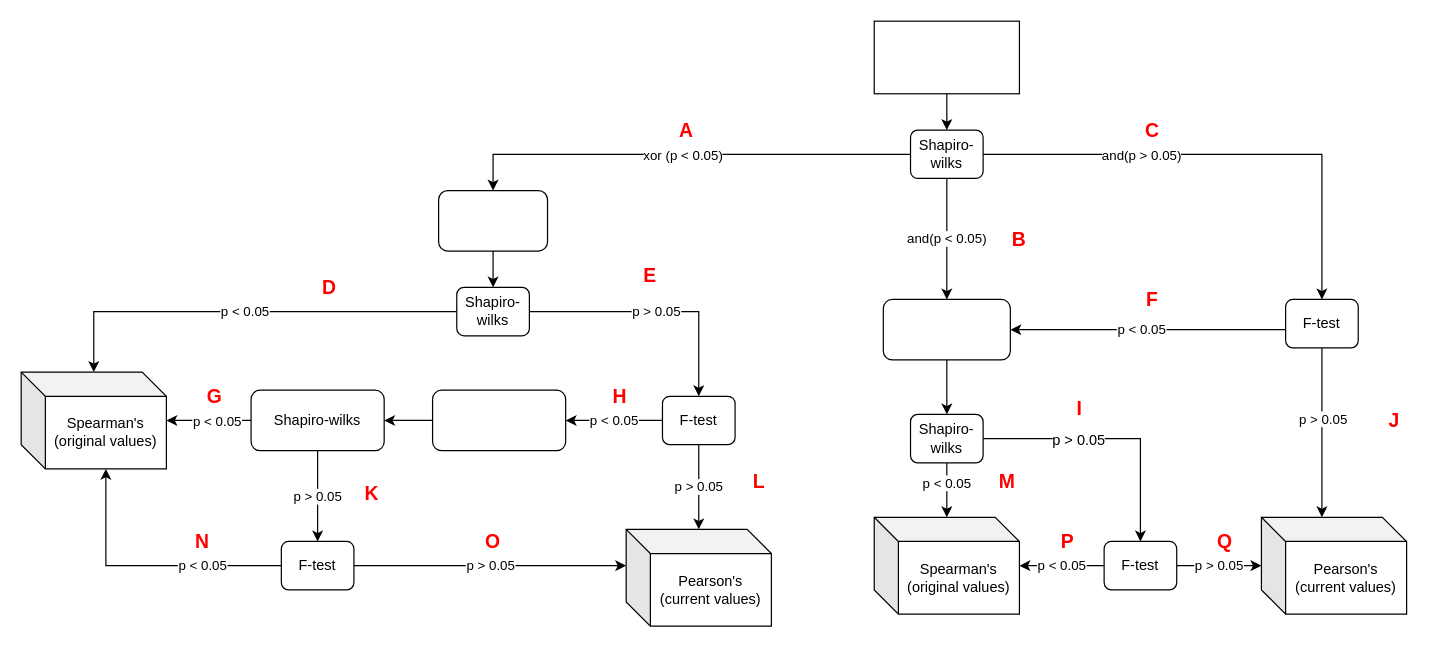
Image size: 1440x647. Some labels were removed from this diagram. The shapes that lost their labels are listed below. From the top down, each one's centre as x and y in pixels, then its label:
At [946,57]: "data point A data point B".
At [492,220]: "Log Transform (data point < p)".
At [946,329]: "Log Transform (both data points)".
At [498,420]: "Log Transform (other data point)".
